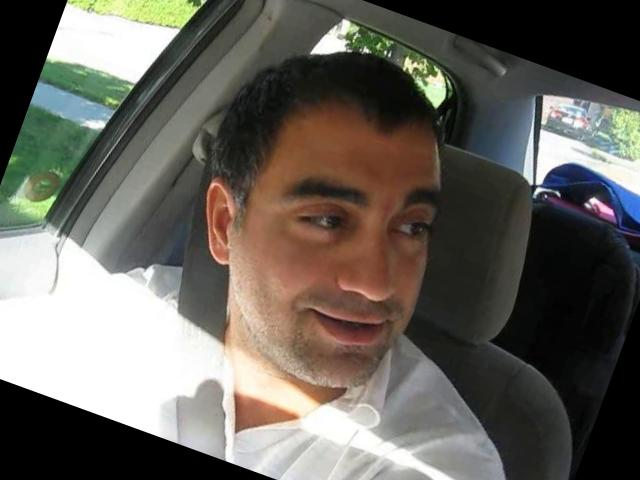eye_open: (286, 196, 358, 251), (388, 210, 433, 250)
face: (212, 131, 460, 410)
